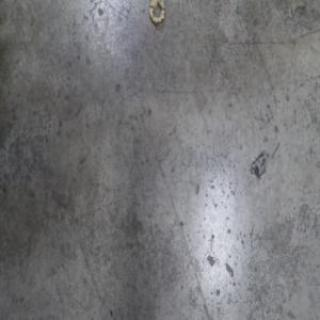Nuttrack_idkeyframe: (148, 0, 166, 29)
